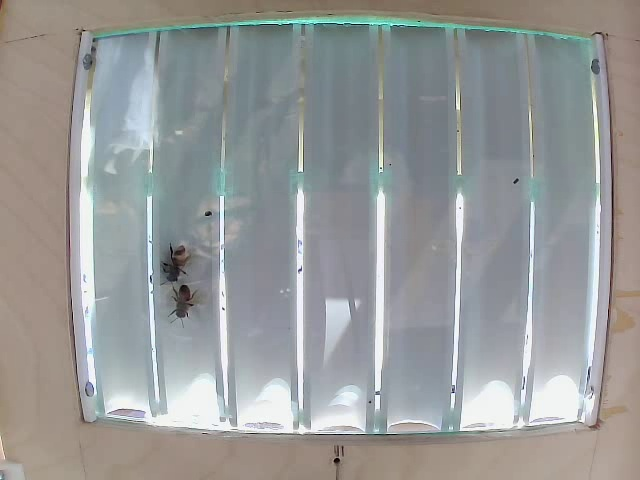bee: (163, 283, 214, 330), (159, 245, 194, 284)
